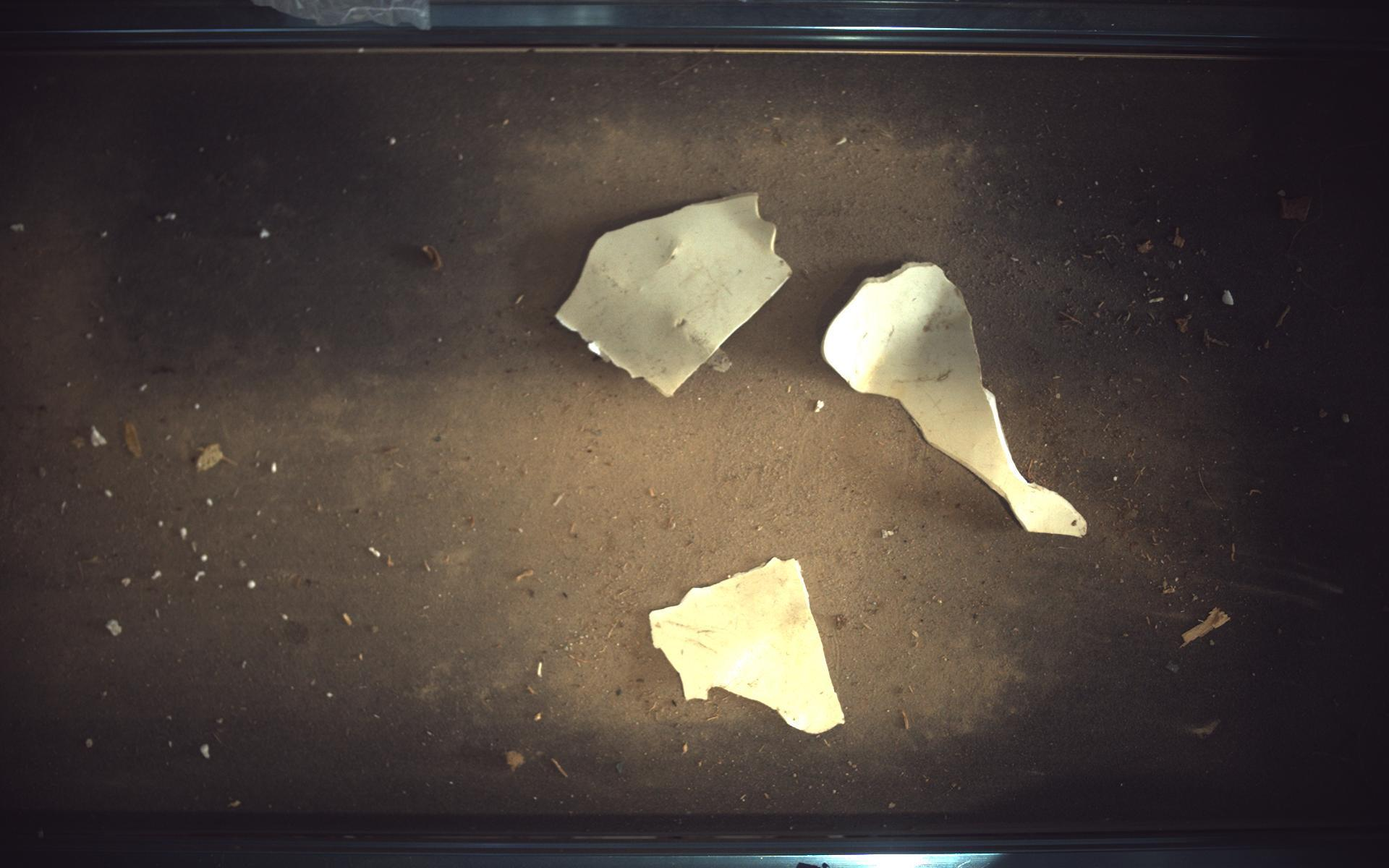plastic: (824, 262, 1090, 537), (557, 192, 792, 396), (650, 558, 846, 735)
